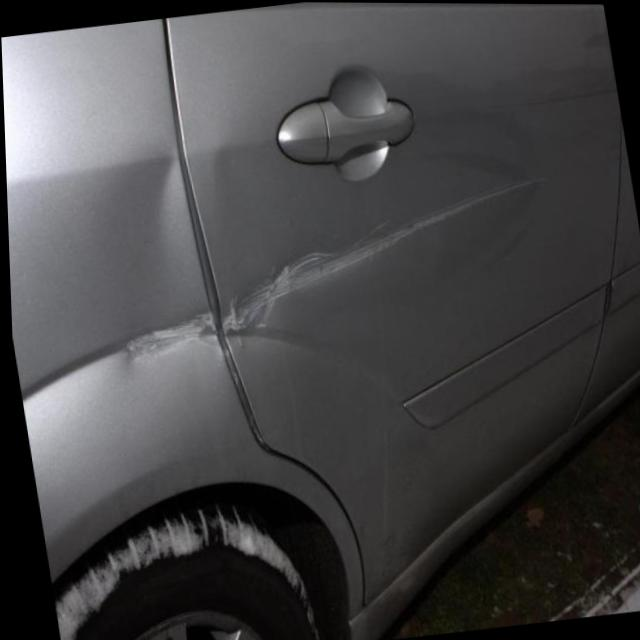Scratch: (101, 230, 402, 353)
